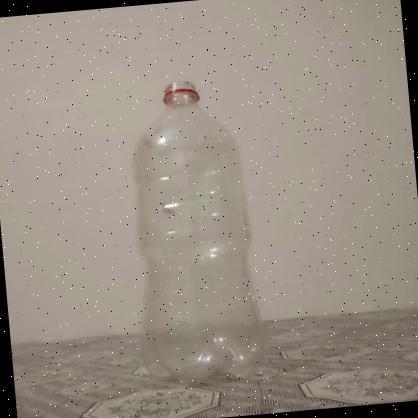bottle: (118, 73, 276, 392)
